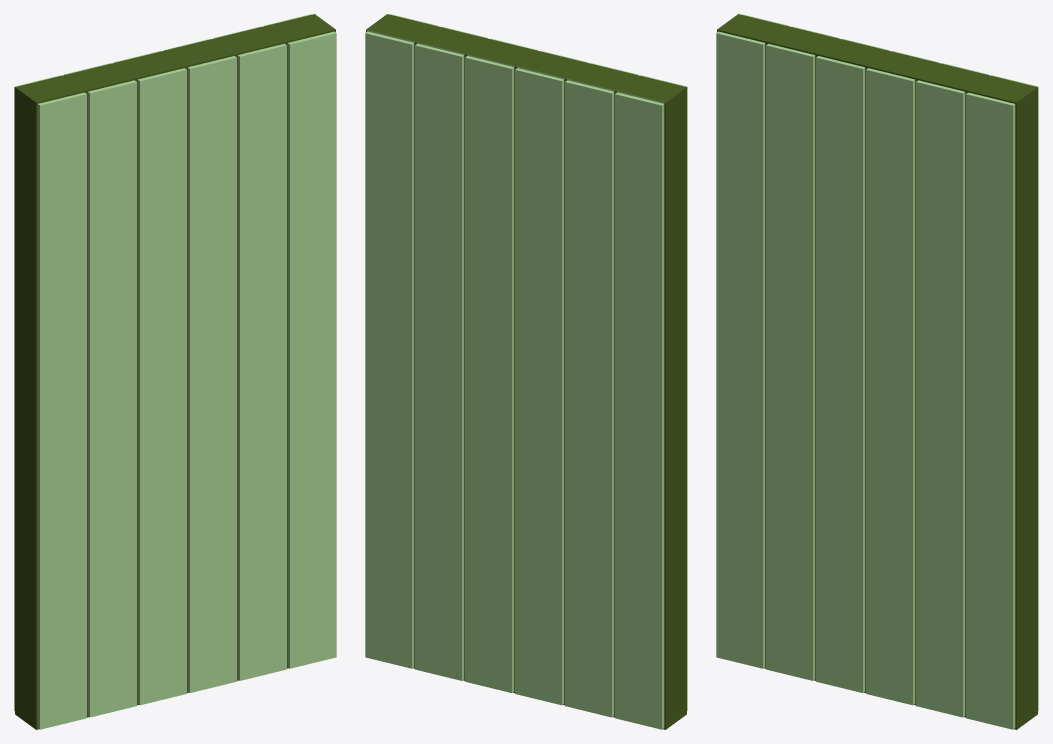
Rendered from GreenBoardsWall.glb.
3 views of the same model, side by side, from view 1: azimuth 30°, elevation 25°; view 2: azimuth 150°, elevation 25°; view 3: azimuth 330°, elevation 25° (orthographic).
Visible parts, largest first — view 1: wall_verticalBoards; view 2: wall_verticalBoards; view 3: wall_verticalBoards.
Boxes of the visible parts, box(x1,y1,x2,y2) form: wall_verticalBoards: box(14, 14, 336, 729); wall_verticalBoards: box(365, 14, 687, 729); wall_verticalBoards: box(716, 14, 1038, 729).
Size of what is drawn, in the model's own units: 2 by 4 by 0.3.
1 material, 1 textured.
